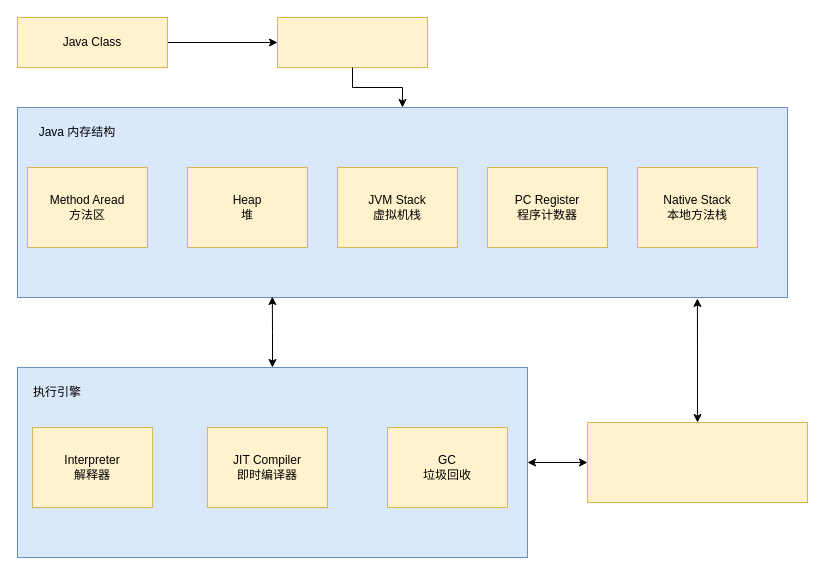
This 825x575 diagram has some shape labels left out. Here are the shapes that lost their labels. From the top down, the box of each, then its label:
(276, 16, 428, 68): ClassLoader
(586, 422, 808, 502): 本地方法接口
